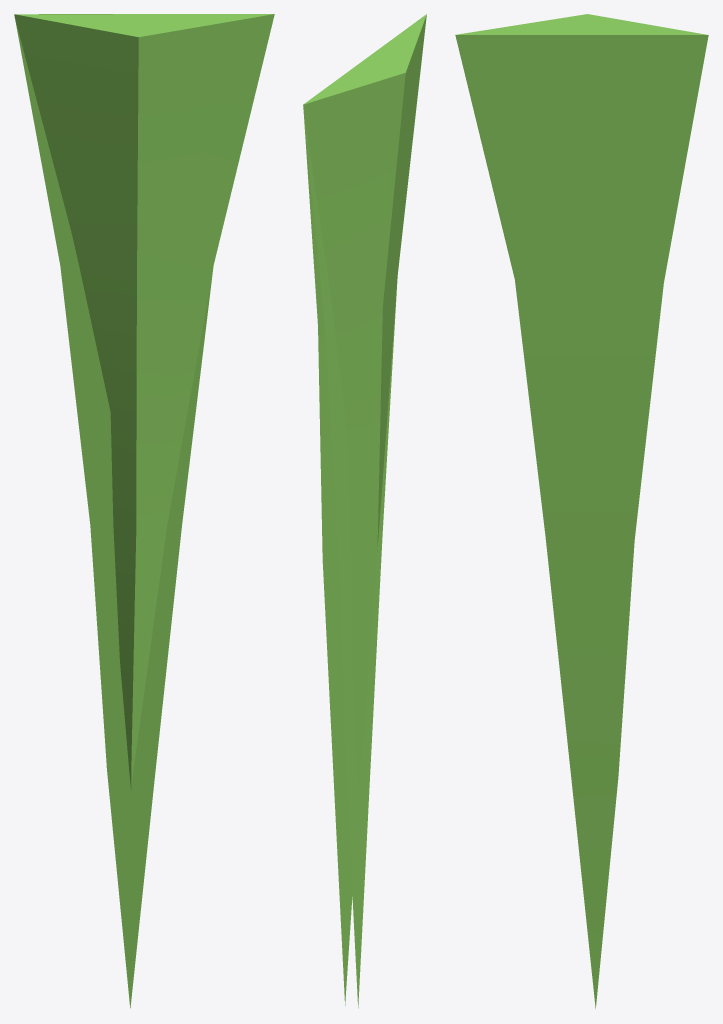
File: mosses_B.fbx
The picture shows the model from 3 angles, left to right: view 1: azimuth 90°, elevation 25°; view 2: azimuth 150°, elevation 25°; view 3: azimuth 270°, elevation 25°; orthographic projection. The views are drawn at different scales.
Parts seen in each view (by area): view 1: moss_B_thick, moss_B; view 2: moss_B_thick, moss_B; view 3: moss_B_thick, moss_B.
Part boxes in pixels (<box>): moss_B_thick: <box>14,14,274,789</box>; moss_B: <box>15,14,212,1008</box>; moss_B_thick: <box>303,14,426,1005</box>; moss_B: <box>303,17,422,1008</box>; moss_B_thick: <box>455,14,707,1008</box>; moss_B: <box>455,35,708,282</box>.
Size of the model in its own units: 2.29 by 34.37 by 8.15.
